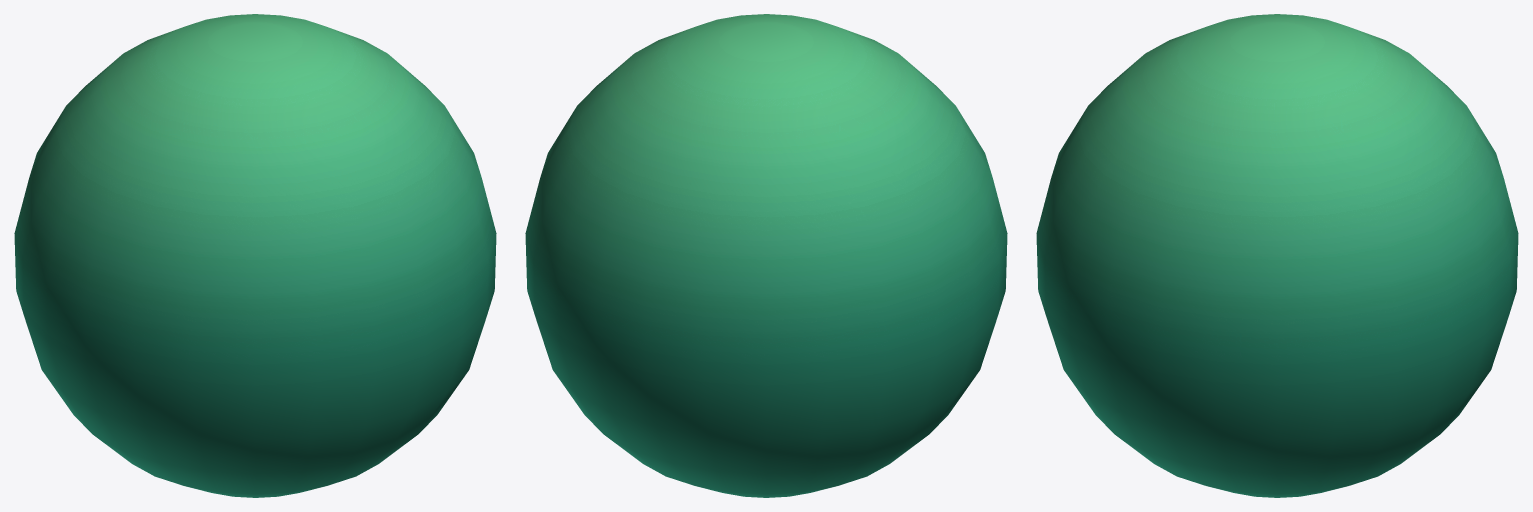
Rendered from ball-green.glb.
The picture shows the model from 3 angles, left to right: view 1: azimuth 30°, elevation 25°; view 2: azimuth 150°, elevation 25°; view 3: azimuth 270°, elevation 25°; orthographic projection.
Parts seen in each view (by area): view 1: ball-green; view 2: ball-green; view 3: ball-green.
Part boxes in pixels (x1=…): ball-green: x1=14, y1=14, x2=496, y2=497; ball-green: x1=525, y1=14, x2=1007, y2=497; ball-green: x1=1036, y1=14, x2=1518, y2=497.
Bounding box in the file's own units: 0.0699 × 0.0697 × 0.0699.
Materials: 1 (1 with a texture image).
